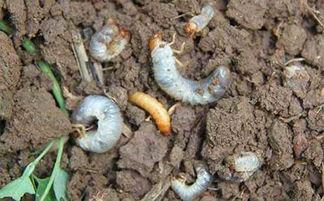grub: (147, 34, 235, 104)
